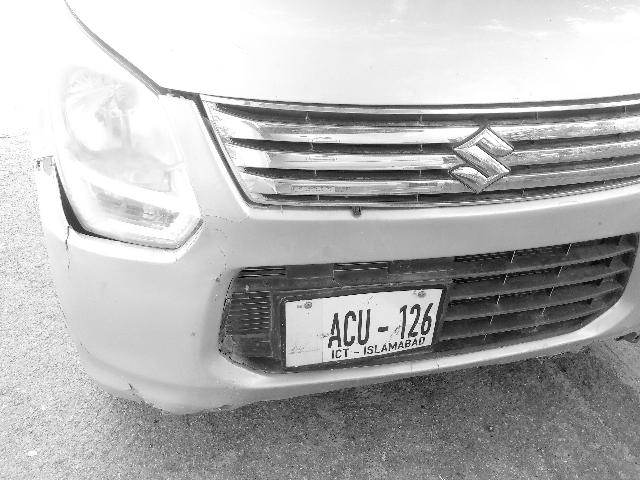Number: (320, 301, 435, 346)
